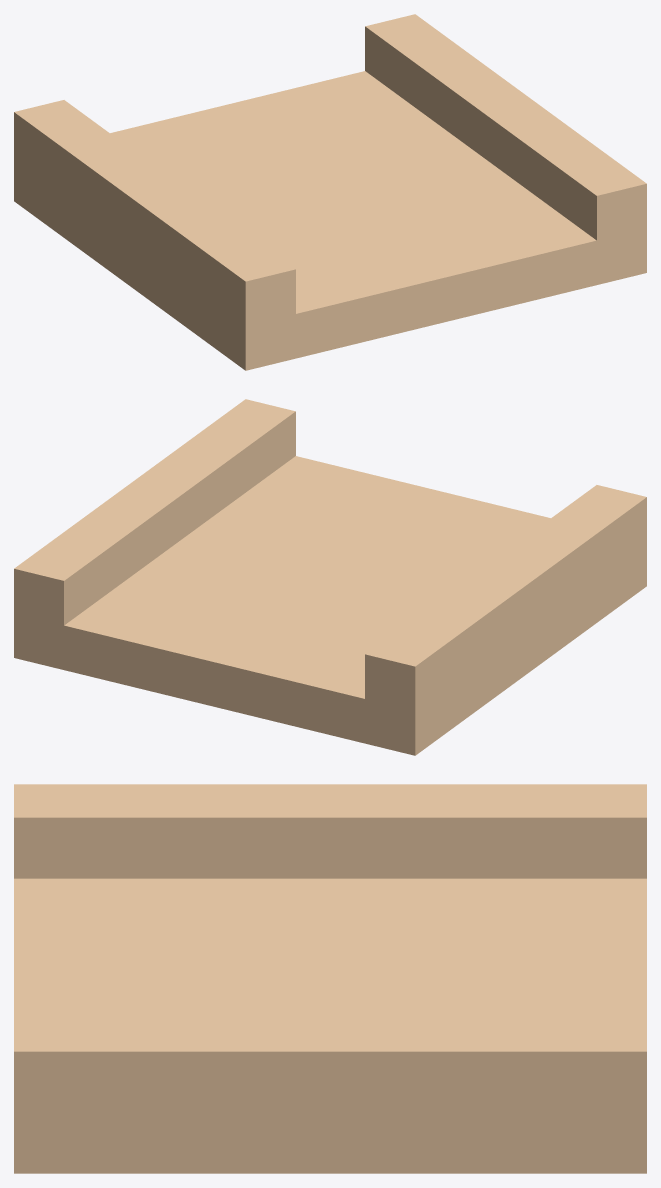
The model's file is roof-flat-border-straight.obj.
3 views of the same model, one above another, from view 1: azimuth 30°, elevation 25°; view 2: azimuth 150°, elevation 25°; view 3: azimuth 270°, elevation 25° (orthographic). The views are drawn at different scales.
Size of the model in its own units: 1 by 0.2125 by 1.
